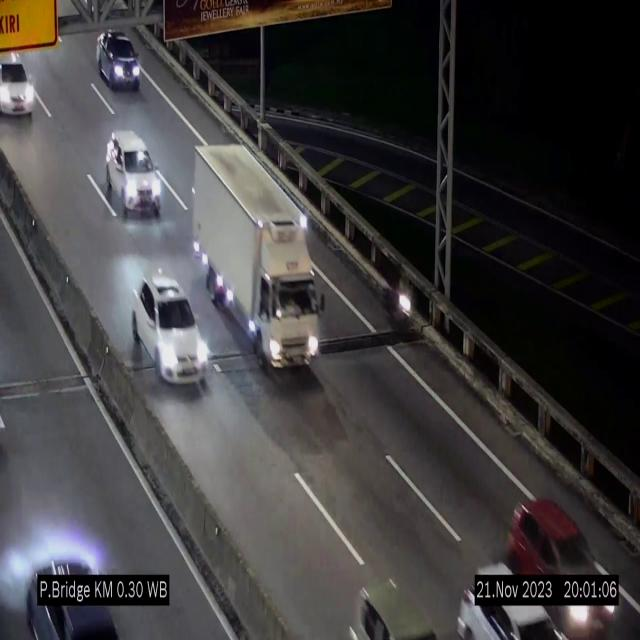Car: (508, 490, 617, 639), (20, 541, 120, 640), (131, 260, 209, 386), (343, 564, 449, 640), (459, 558, 556, 640), (105, 131, 161, 216), (0, 50, 39, 133), (98, 31, 140, 91)
Motorcycle: (387, 263, 415, 341)
Truck: (189, 138, 327, 376)
